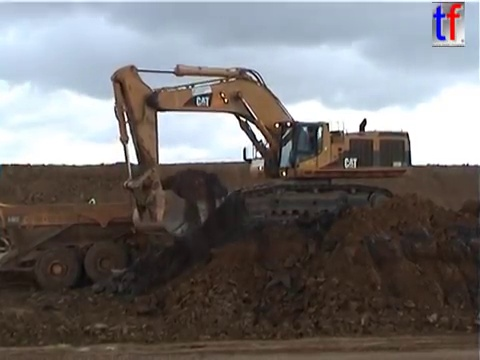excavator: (107, 61, 413, 241)
truck: (1, 200, 172, 291)
worker: (85, 192, 97, 217)
